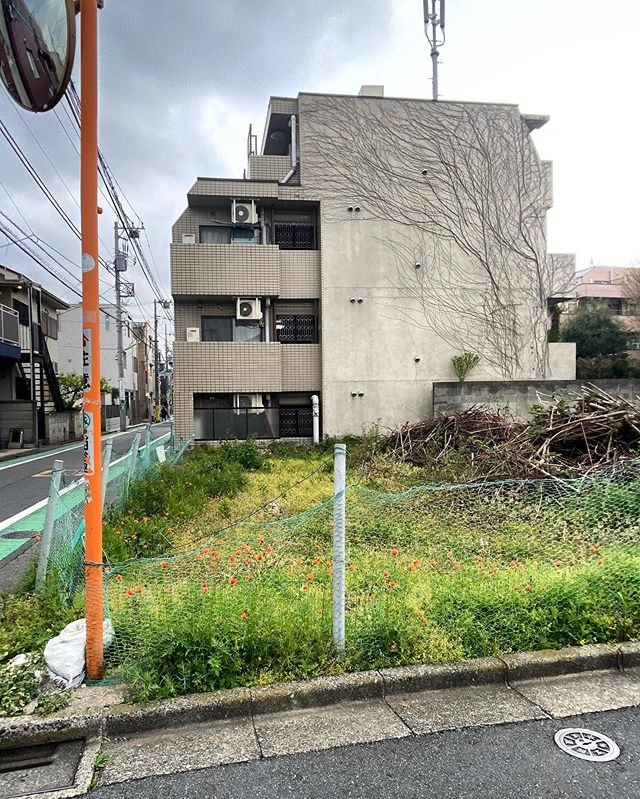building: (178, 100, 542, 446), (1, 278, 98, 440), (563, 260, 639, 372), (102, 305, 160, 426)
grass: (126, 431, 630, 638)
sky: (26, 1, 640, 254)
